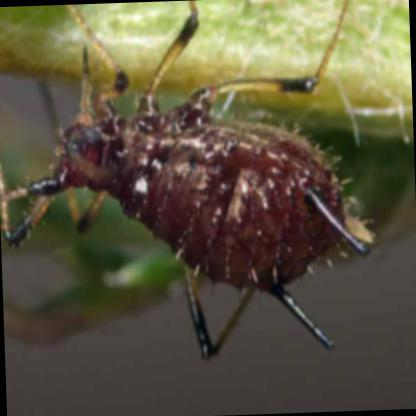uroleucon compositae: (6, 18, 375, 348)
